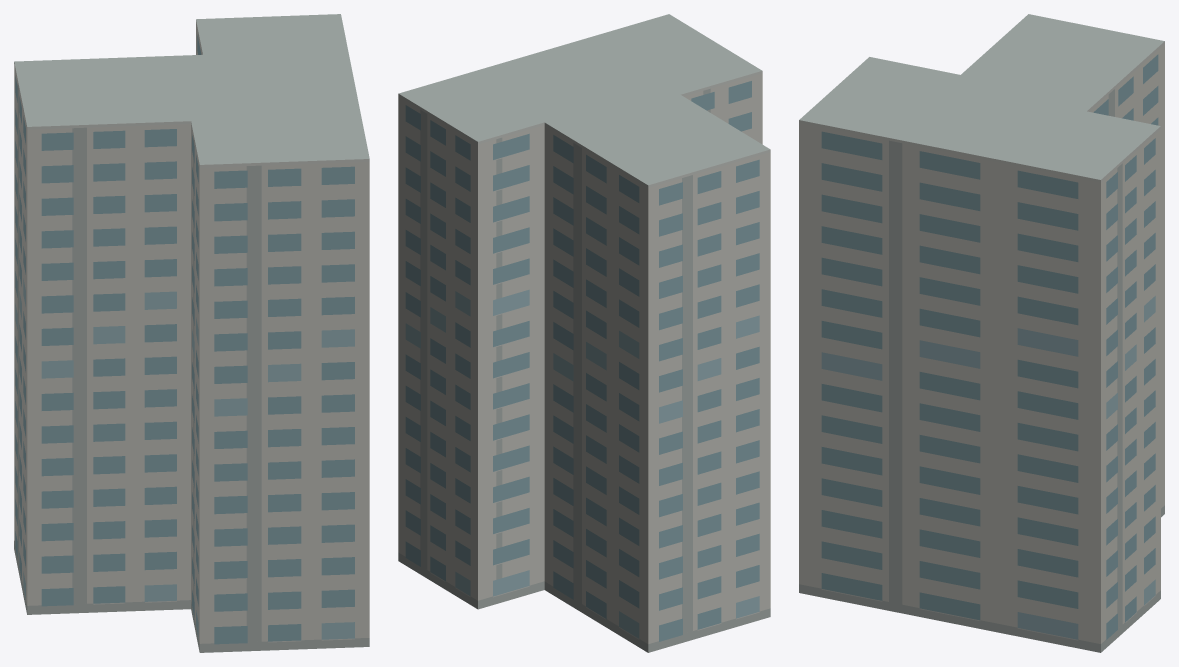
Rendered from residential-627df9e2-7bc4-4714-9cab-7bae922b10d7.glb.
The picture shows the model from 3 angles, left to right: view 1: azimuth 30°, elevation 25°; view 2: azimuth 150°, elevation 25°; view 3: azimuth 270°, elevation 25°; orthographic projection. The views are drawn at different scales.
Parts seen in each view (by area): view 1: residential-627df9e2-7bc4-4714-9cab-7bae922b10d7.tmp; view 2: residential-627df9e2-7bc4-4714-9cab-7bae922b10d7.tmp; view 3: residential-627df9e2-7bc4-4714-9cab-7bae922b10d7.tmp.
Boxes of the visible parts, x1=… form: residential-627df9e2-7bc4-4714-9cab-7bae922b10d7.tmp: x1=14, y1=14, x2=369, y2=652; residential-627df9e2-7bc4-4714-9cab-7bae922b10d7.tmp: x1=398, y1=14, x2=770, y2=652; residential-627df9e2-7bc4-4714-9cab-7bae922b10d7.tmp: x1=799, y1=14, x2=1164, y2=652.
Size of the model in its own units: 31.63 by 42 by 29.45.
